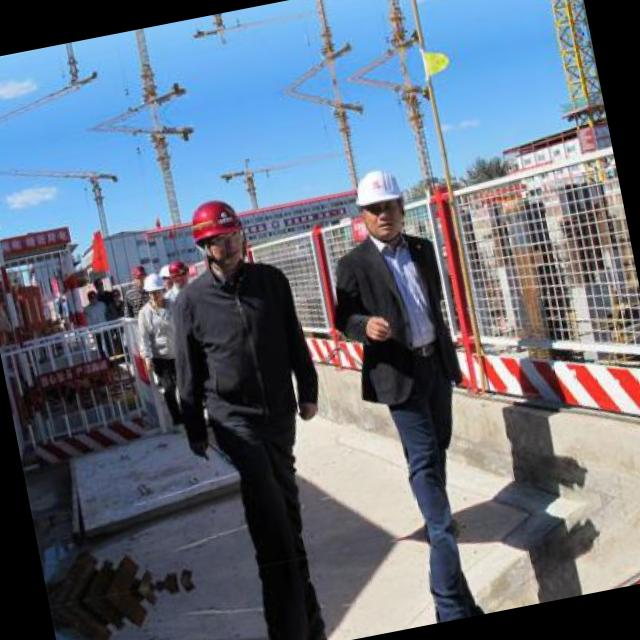helmet: (182, 192, 252, 274), (349, 160, 414, 244), (164, 254, 192, 294), (140, 269, 168, 307), (125, 258, 149, 290)
